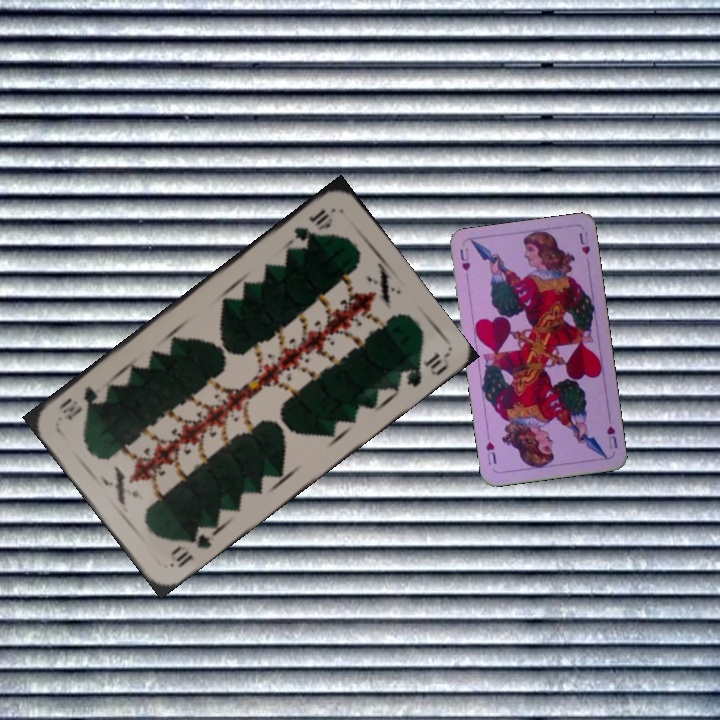G10: (166, 522, 214, 571), (290, 205, 336, 244)
HU: (602, 422, 620, 451), (456, 244, 473, 273)
